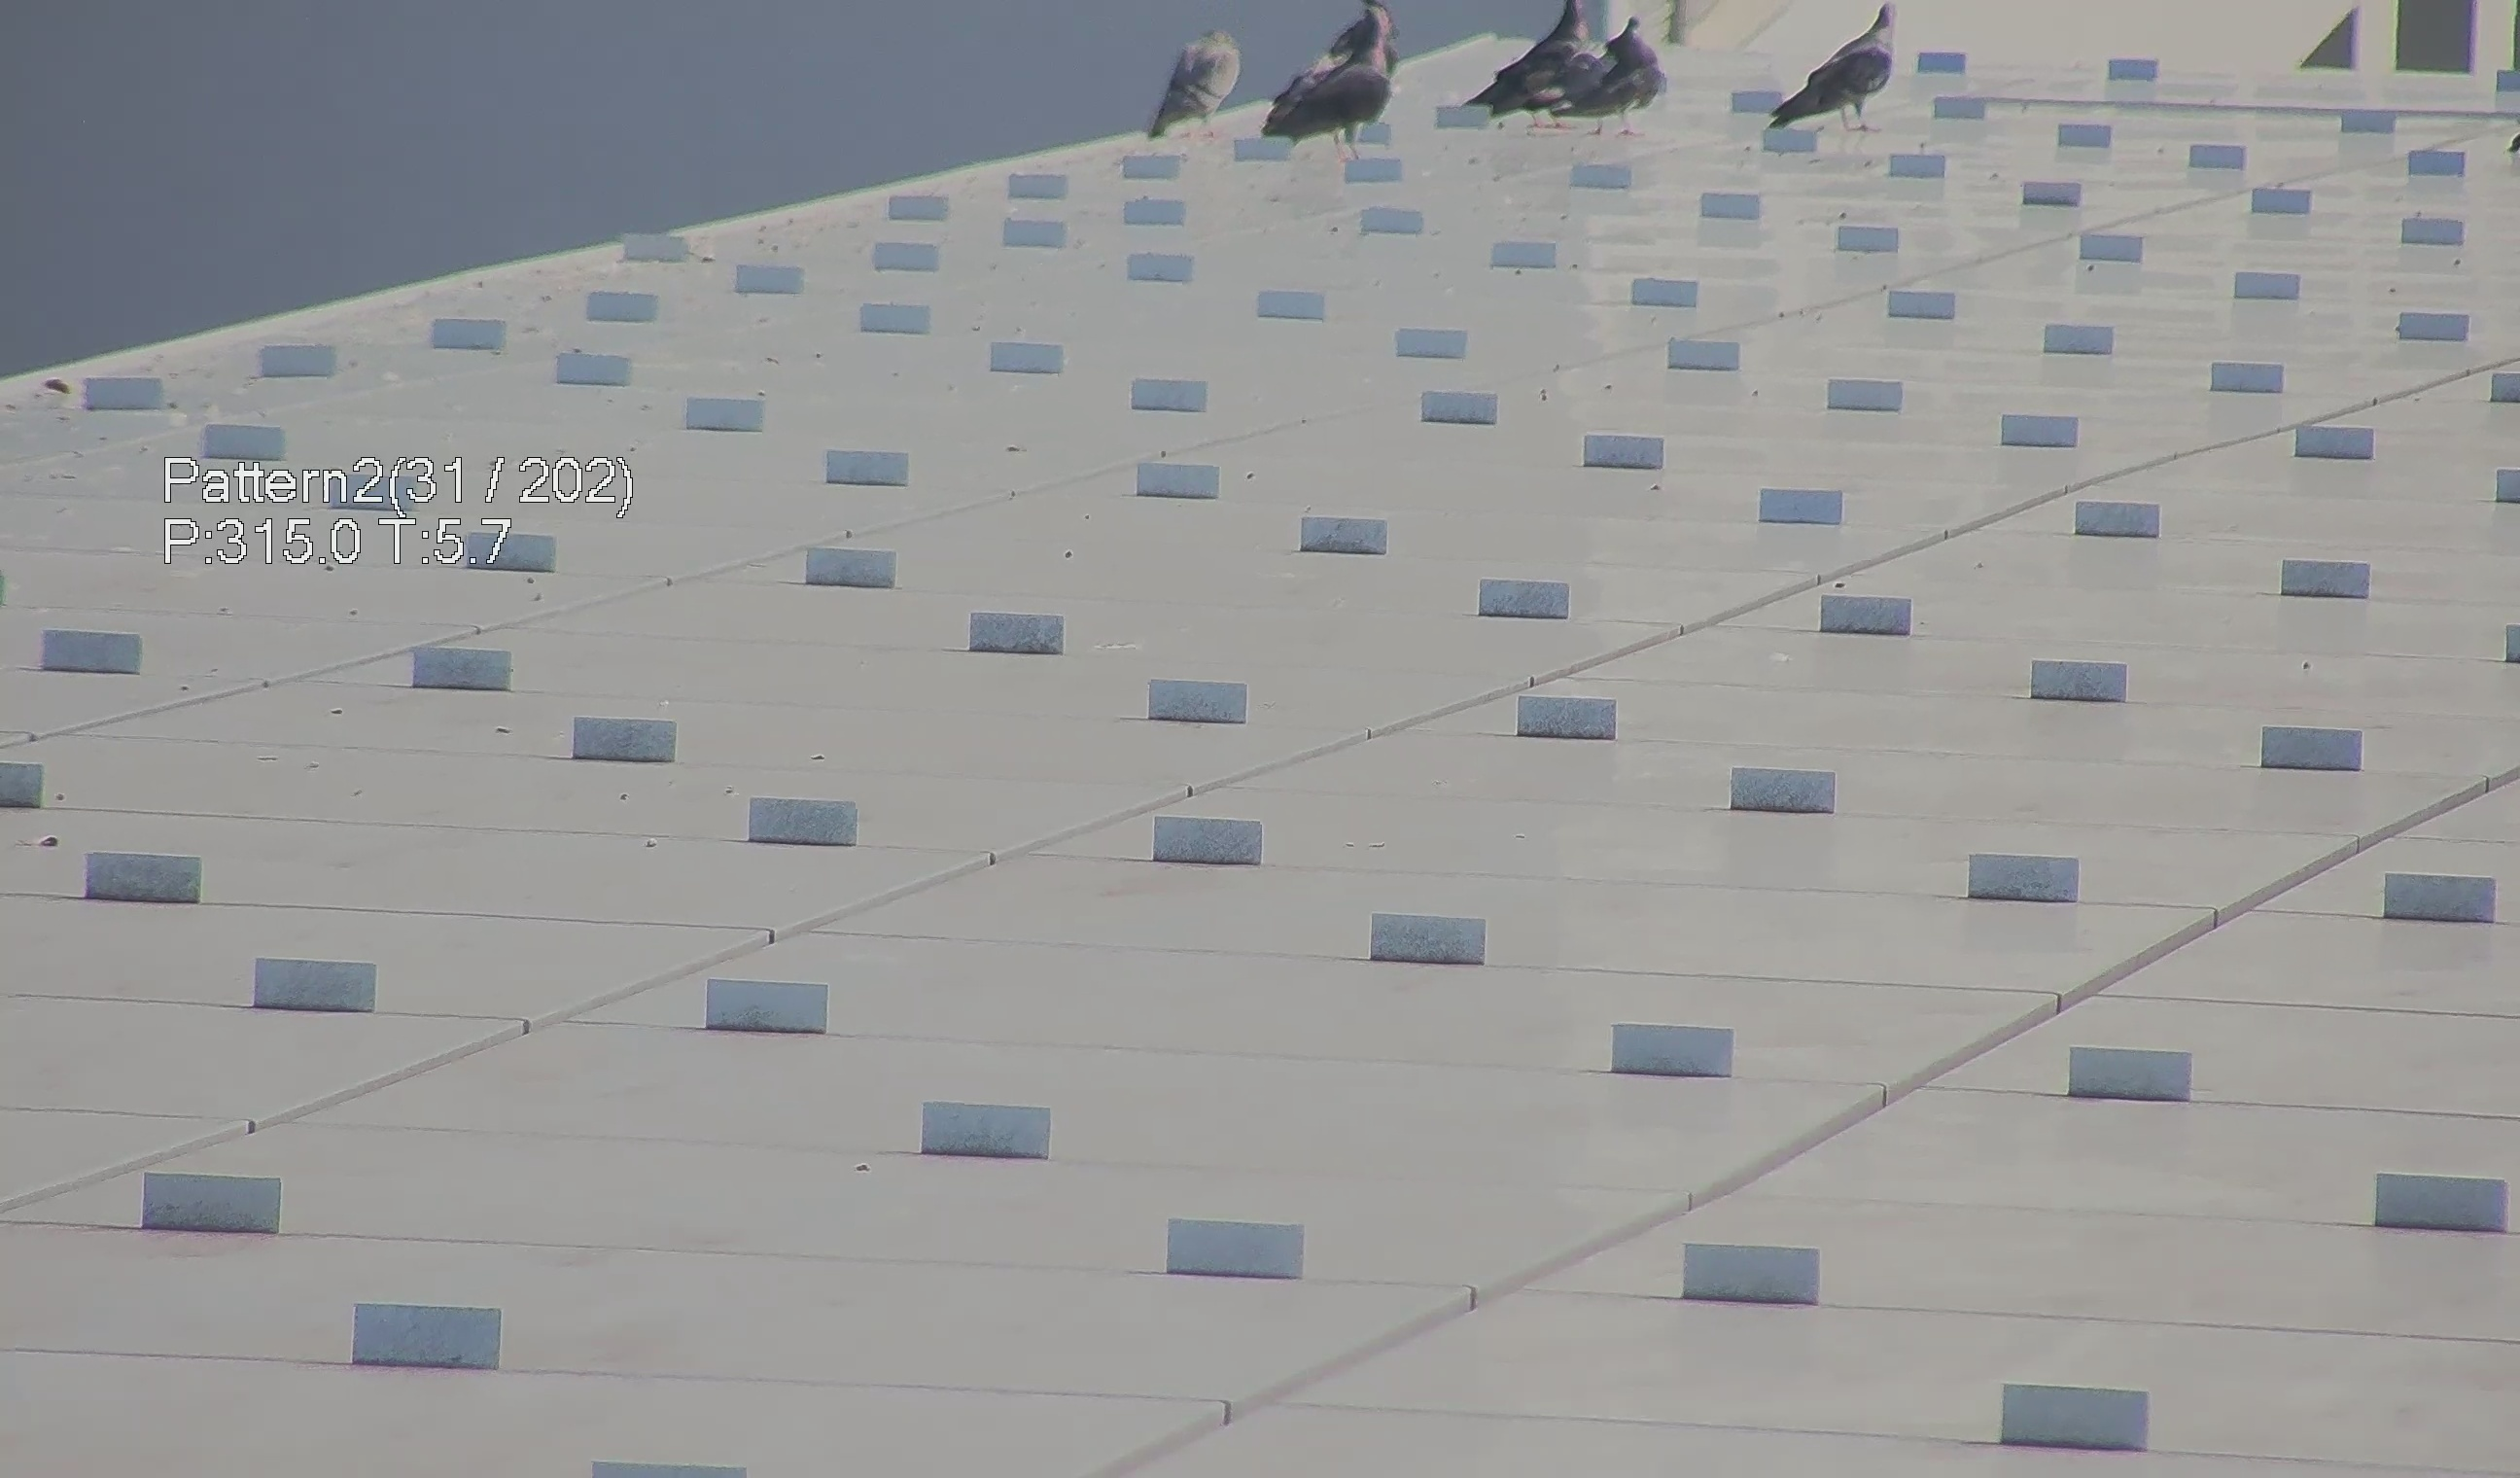Pigeon: (1259, 2, 1405, 148), (1769, 2, 1908, 143), (1470, 2, 1595, 137), (1125, 16, 1249, 151), (1565, 16, 1671, 160)
